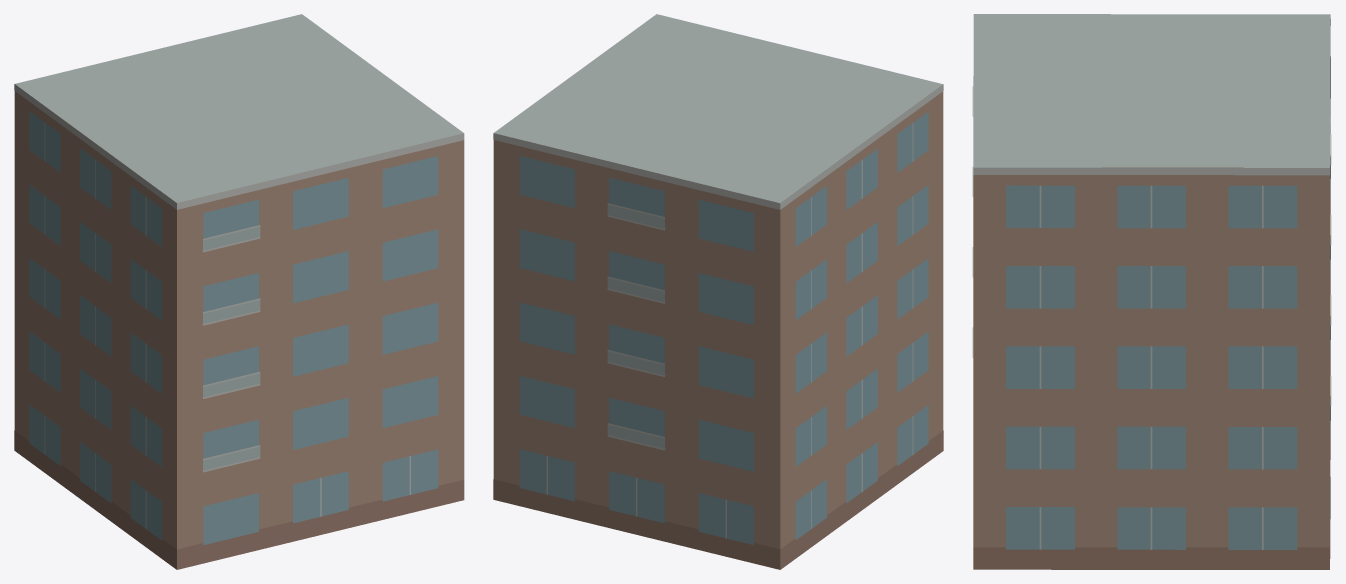
The model's file is survey-upis-32875502.glb.
3 renders of one model, left to right at view 1: azimuth 30°, elevation 25°; view 2: azimuth 150°, elevation 25°; view 3: azimuth 270°, elevation 25°, orthographic. The views are drawn at different scales.
Visible parts, largest first — view 1: survey-upis-32875502.tmp; view 2: survey-upis-32875502.tmp; view 3: survey-upis-32875502.tmp.
Boxes of the visible parts, x1=… form: survey-upis-32875502.tmp: x1=14, y1=14, x2=464, y2=569; survey-upis-32875502.tmp: x1=493, y1=14, x2=943, y2=569; survey-upis-32875502.tmp: x1=972, y1=14, x2=1331, y2=569.
Size of the model in its own units: 10.93 by 13.3 by 10.78.
